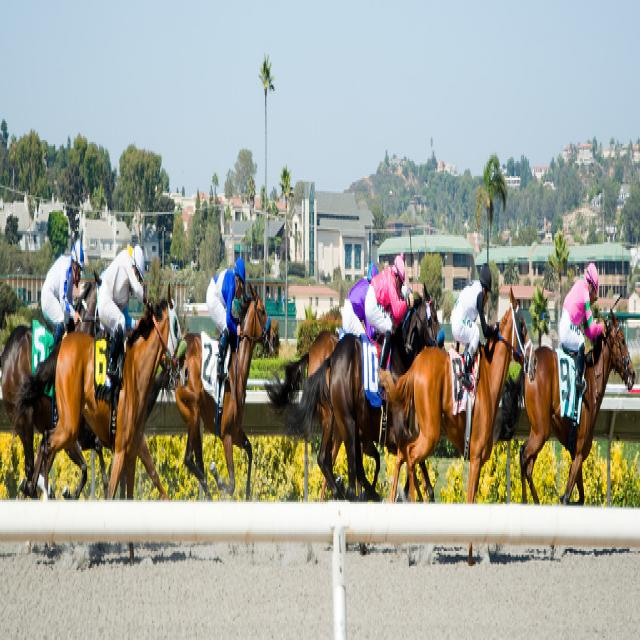Horse: (0, 270, 636, 566)
